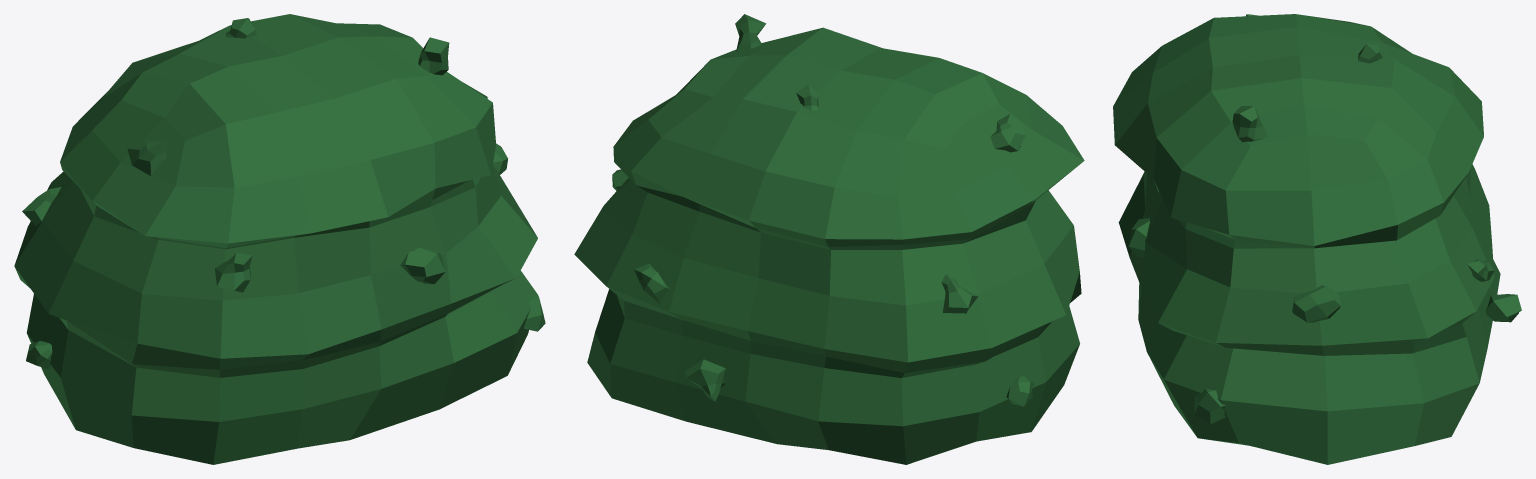
The model's file is cotton.glb.
The picture shows the model from 3 angles, left to right: view 1: azimuth 30°, elevation 25°; view 2: azimuth 150°, elevation 25°; view 3: azimuth 270°, elevation 25°; orthographic projection. The views are drawn at different scales.
Visible parts, largest first — view 1: BushBerries_4_Cube044; view 2: BushBerries_4_Cube044; view 3: BushBerries_4_Cube044.
Boxes of the visible parts, x1,y1,x2,y2 form: BushBerries_4_Cube044: (14,14,545,464); BushBerries_4_Cube044: (574,14,1084,464); BushBerries_4_Cube044: (1113,14,1521,464).
Size of the model in its own units: 1.46 by 1.08 by 1.18.
